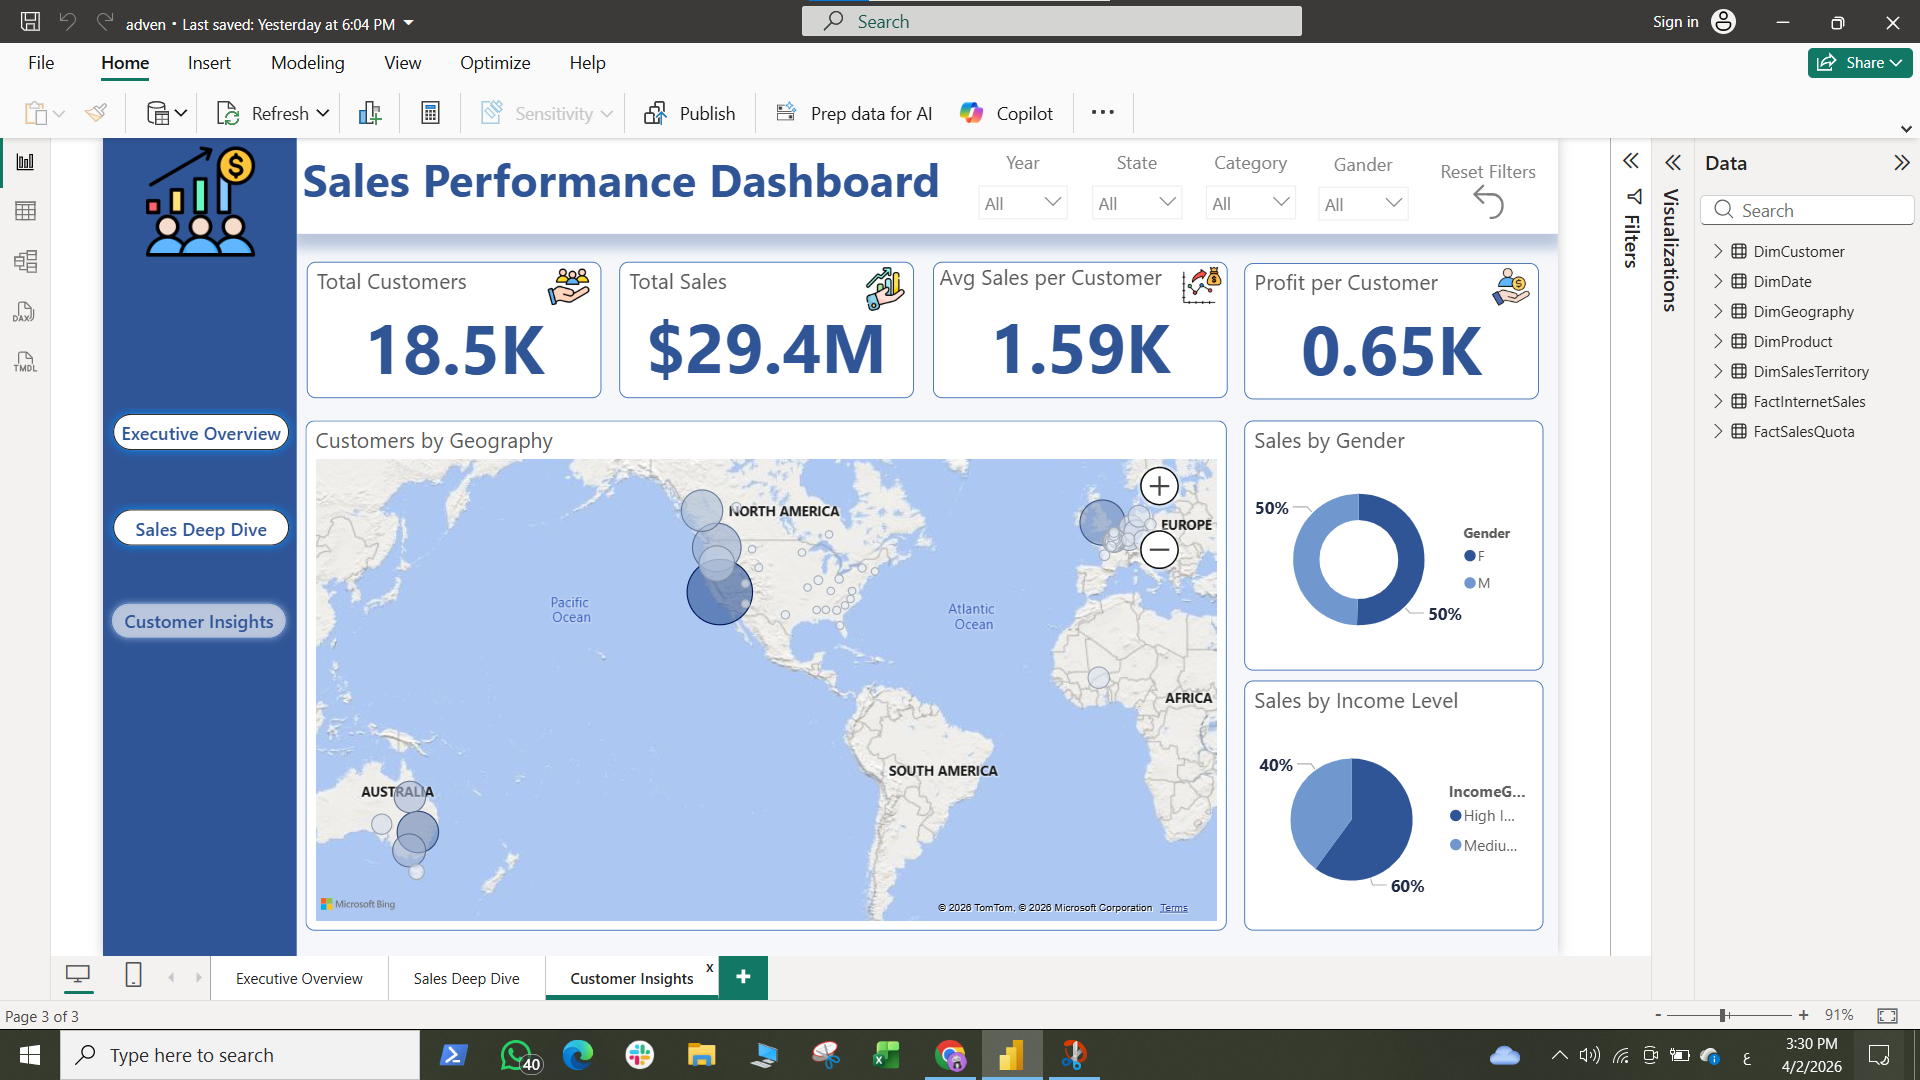

The page's visual inventory and layout, read from the dashboard file:
{"tool":"powerbi","page":{"name":"Customer Insights","canvas":[1280,720],"ordinal":2},"visuals":[{"type":"card","title":"Total Customers","fields":{"Values":["FactInternetSales.Total Customers"]},"box":[179,109,259.5,120.2],"z":0},{"type":"card","title":"Avg Sales per Customer","fields":{"Values":["FactInternetSales.Avg Sales per Customer"]},"box":[730,109.3,259.4,120.1],"z":1000},{"type":"card","title":"Profit per Customer","fields":{"Values":["FactInternetSales.Profit per Customer"]},"box":[1004,109.5,259.5,120.2],"z":2000},{"type":"donutChart","title":"Sales by Gender","fields":{"Y":["FactInternetSales.Total Sales"],"Category":["DimCustomer.Gender"]},"box":[1003.6,248.8,263,220.2],"z":3000},{"type":"textbox","title":"Sales Performance Dashboard","box":[170.2,1.2,1109.5,83.3],"z":4000},{"type":"shape","box":[0,0,170.5,720.5],"z":5000},{"type":"image","box":[15.5,1.2,140.5,109.5],"z":9000},{"type":"pieChart","title":"Sales by Income Level","fields":{"Y":["FactInternetSales.Total Sales"],"Category":["DimCustomer.IncomeGroup"]},"box":[1003.6,477.4,263.1,220.2],"z":10000},{"type":"map","title":"Customers by Geography","fields":{"Category":["DimGeography.StateProvinceName"],"Size":["FactInternetSales.Total Customers"]},"box":[178.6,248.8,810.7,448.8],"z":11000},{"type":"card","title":"Total Sales","fields":{"Values":["Sum(FactInternetSales.TotalSales)"]},"box":[453.9,109.3,259.4,120.1],"z":12000},{"type":"image","box":[381.8,108.1,56.4,46.8],"z":13000},{"type":"image","box":[650.8,109.3,74.4,48],"z":14000},{"type":"image","box":[945,108.1,44.4,44.4],"z":15000},{"type":"image","box":[1212.8,108.1,51.6,46.8],"z":16000},{"type":"slicer","title":"Year","fields":{"Values":["DimDate.Year"]},"box":[760.2,9.6,98.8,67.2],"z":17000},{"type":"slicer","title":"State","fields":{"Values":["DimGeography.StateProvinceName"]},"box":[859.7,9.6,99.7,66],"z":18000},{"type":"slicer","title":"Gander ","fields":{"Values":["DimCustomer.Gender"]},"box":[1059.1,10.8,99.7,66],"z":19000},{"type":"slicer","title":"Category","fields":{"Values":["DimProduct.CategoryName"]},"box":[959.4,9.6,99.7,66],"z":20000},{"type":"actionButton","title":"Reset","box":[1158,11,121.4,67.9],"z":21000},{"type":"pageNavigator","title":"سي","box":[0,229.8,178.6,228.6],"z":22000}]}

Visuals, with their boxes on the page's 1280x720 design canvas (x1, y1, x2, y2). These are canvas units, not pixel positions in the 1920x1080 screenshot, which may show the page scaled, cropped or inside an application window:
"Total Customers" card: {"x1": 179, "y1": 109, "x2": 438, "y2": 229}
"Avg Sales per Customer" card: {"x1": 730, "y1": 109, "x2": 989, "y2": 229}
"Profit per Customer" card: {"x1": 1004, "y1": 110, "x2": 1264, "y2": 230}
"Sales by Gender" donutChart: {"x1": 1004, "y1": 249, "x2": 1267, "y2": 469}
"Sales Performance Dashboard" textbox: {"x1": 170, "y1": 1, "x2": 1280, "y2": 84}
shape: {"x1": 0, "y1": 0, "x2": 170, "y2": 720}
image: {"x1": 16, "y1": 1, "x2": 156, "y2": 111}
"Sales by Income Level" pieChart: {"x1": 1004, "y1": 477, "x2": 1267, "y2": 698}
"Customers by Geography" map: {"x1": 179, "y1": 249, "x2": 989, "y2": 698}
"Total Sales" card: {"x1": 454, "y1": 109, "x2": 713, "y2": 229}
image: {"x1": 382, "y1": 108, "x2": 438, "y2": 155}
image: {"x1": 651, "y1": 109, "x2": 725, "y2": 157}
image: {"x1": 945, "y1": 108, "x2": 989, "y2": 152}
image: {"x1": 1213, "y1": 108, "x2": 1264, "y2": 155}
"Year" slicer: {"x1": 760, "y1": 10, "x2": 859, "y2": 77}
"State" slicer: {"x1": 860, "y1": 10, "x2": 959, "y2": 76}
"Gander " slicer: {"x1": 1059, "y1": 11, "x2": 1159, "y2": 77}
"Category" slicer: {"x1": 959, "y1": 10, "x2": 1059, "y2": 76}
"Reset" actionButton: {"x1": 1158, "y1": 11, "x2": 1279, "y2": 79}
"سي" pageNavigator: {"x1": 0, "y1": 230, "x2": 179, "y2": 458}
